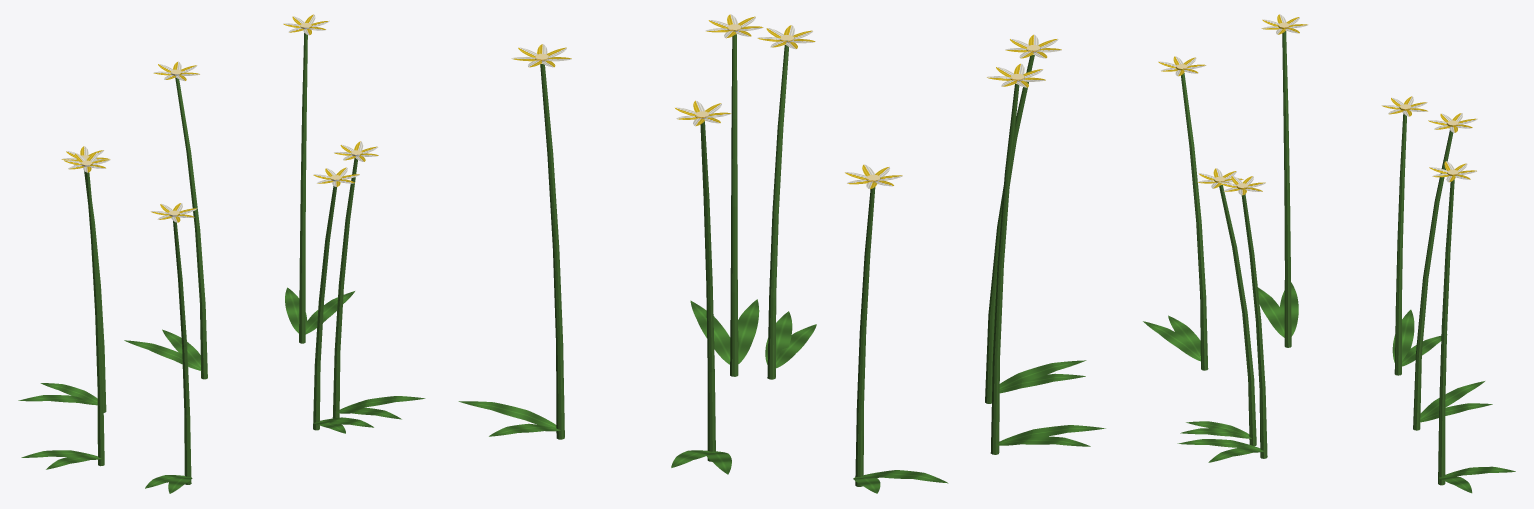
Rendered from meadow_flower_mix_v01.fbx.
The picture shows the model from 3 angles, left to right: view 1: azimuth 30°, elevation 25°; view 2: azimuth 150°, elevation 25°; view 3: azimuth 270°, elevation 25°; orthographic projection. The views are drawn at different scales.
Visible parts, largest first — view 1: meadow_flower_mix_v01; view 2: meadow_flower_mix_v01; view 3: meadow_flower_mix_v01.
Boxes of the visible parts, x1,y1,x2,y2 form: meadow_flower_mix_v01: [18, 14, 425, 493]; meadow_flower_mix_v01: [458, 14, 1105, 493]; meadow_flower_mix_v01: [1143, 14, 1515, 493].
Bounding box in the file's own units: 63.45 × 48.45 × 44.17.
Materials: 3 (3 with a texture image).
